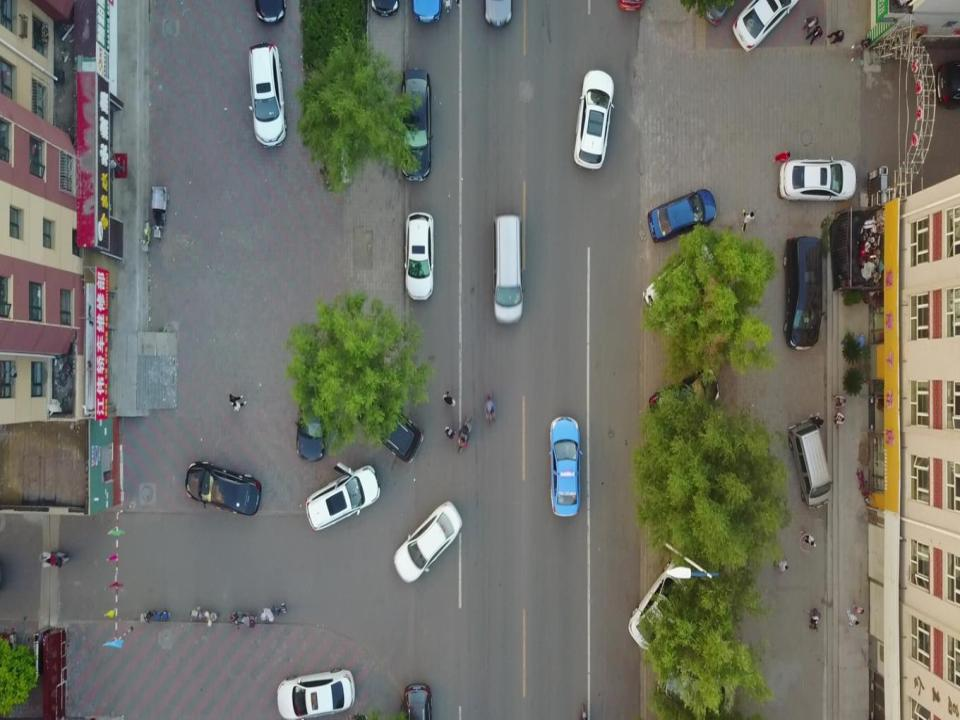car: (394, 502, 462, 582), (631, 565, 694, 649), (305, 464, 381, 531), (244, 44, 290, 143), (186, 460, 262, 519), (398, 70, 436, 182), (650, 366, 720, 423), (777, 157, 858, 206), (574, 68, 613, 169), (275, 669, 355, 718), (650, 187, 722, 241), (548, 414, 584, 516), (731, 0, 799, 53), (403, 212, 436, 303), (297, 373, 327, 470)
van: (355, 391, 423, 467), (782, 236, 825, 353), (788, 422, 835, 507), (490, 214, 526, 322)
